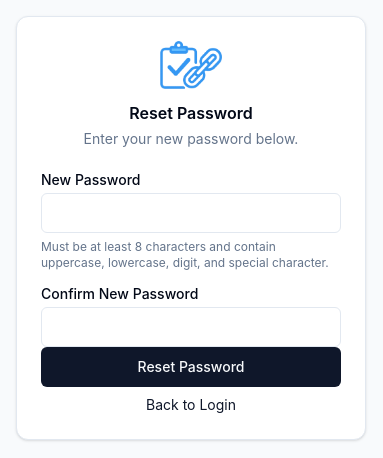
ResetPassword › keeps the fields open while the reset is sent, like the other auth forms
Type "Battery-Staple-2" into the password field labelled "New Password". click: (191, 213)
box: [41, 193, 341, 233]
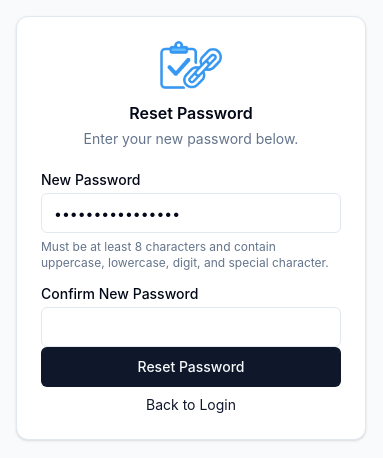
Type "Battery-Staple-2" into the password field labelled "Confirm New Password". click: (191, 327)
box: [41, 307, 341, 347]
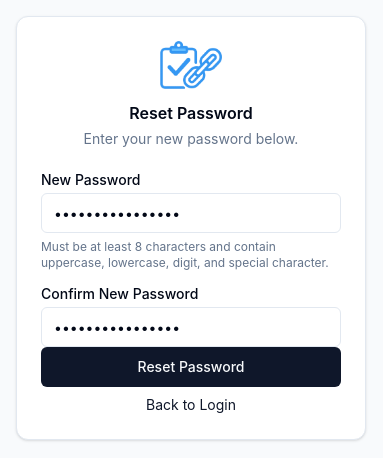
Click the button "Reset Password". click: click(191, 367)
box: [41, 347, 341, 387]
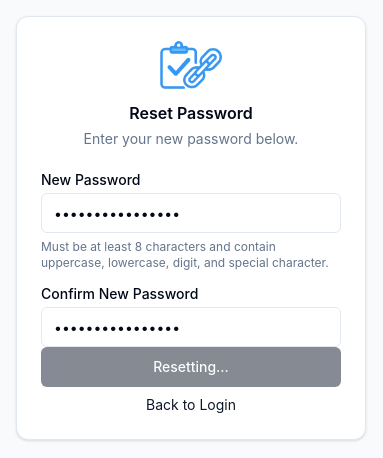
Expected: the password field labelled "New Password" is enabled, [41, 193, 341, 233]
Expected: the button "Resetting..." is disabled, [41, 347, 341, 387]
